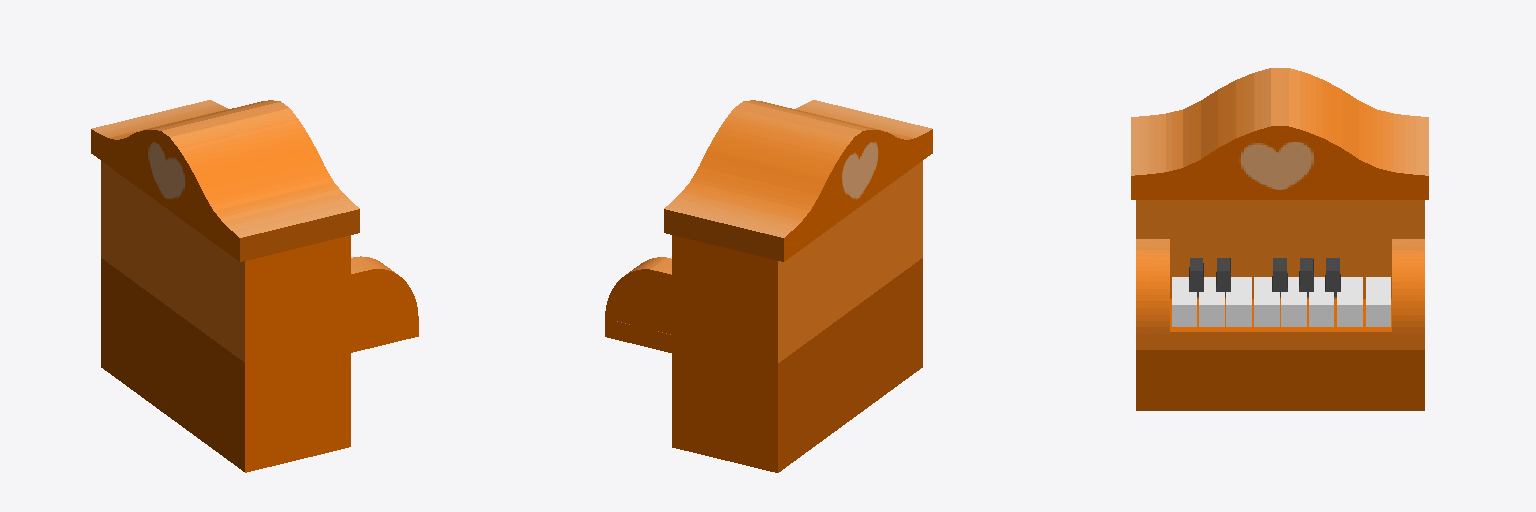
The picture shows the model from 3 angles: view 1: azimuth 30°, elevation 25°; view 2: azimuth 150°, elevation 25°; view 3: azimuth 270°, elevation 25°; orthographic projection.
Visible parts, largest first — view 1: pCube19; view 2: pCube19; view 3: pCube19.
Boxes of the visible parts, x1,y1,x2,y2 form: pCube19: [91, 100, 418, 472]; pCube19: [605, 100, 932, 472]; pCube19: [1131, 68, 1428, 410].
Size of the model in its own units: 28.93 by 43.92 by 41.3.
Materials: 1 (1 with a texture image).